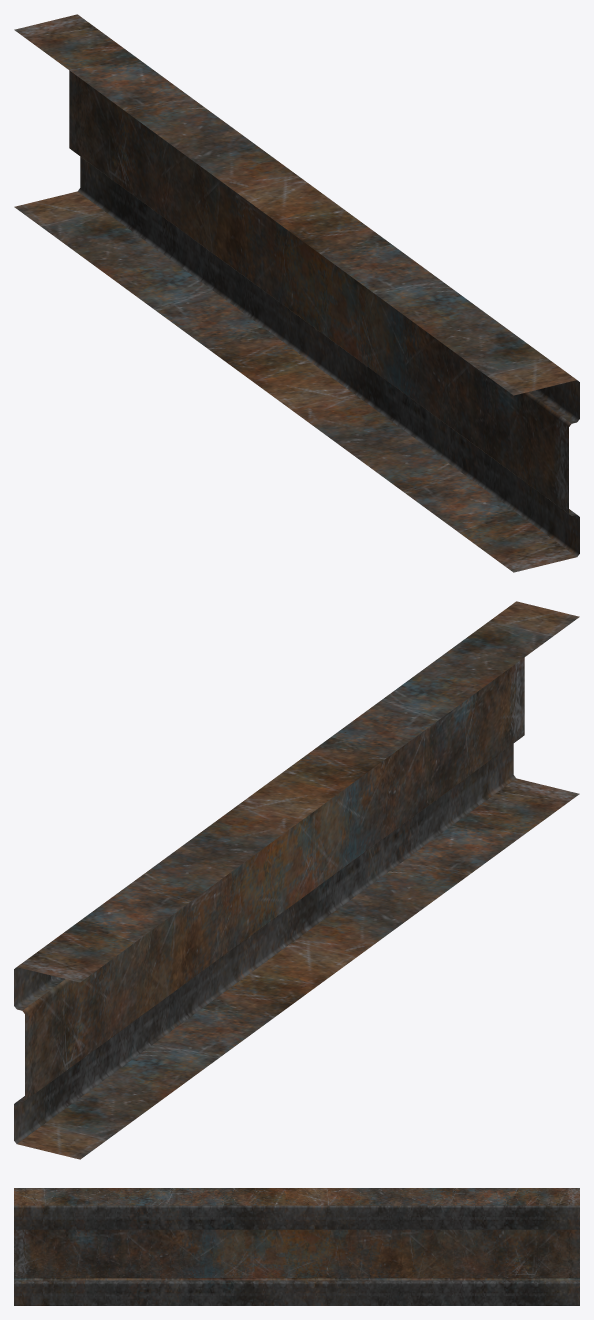
File: Beam_2m.glb
The picture shows the model from 3 angles, top to bottom: view 1: azimuth 30°, elevation 25°; view 2: azimuth 150°, elevation 25°; view 3: azimuth 270°, elevation 25°; orthographic projection. The views are drawn at different scales.
Visible parts, largest first — view 1: Beam_2m; view 2: Beam_2m; view 3: Beam_2m.
Boxes of the visible parts, x1=… form: Beam_2m: x1=14, y1=14, x2=579, y2=572; Beam_2m: x1=14, y1=601, x2=579, y2=1159; Beam_2m: x1=14, y1=1188, x2=579, y2=1305.
Bounding box in the file's own units: 0.1532 × 0.391 × 2.
Materials: 2 (2 with a texture image).
